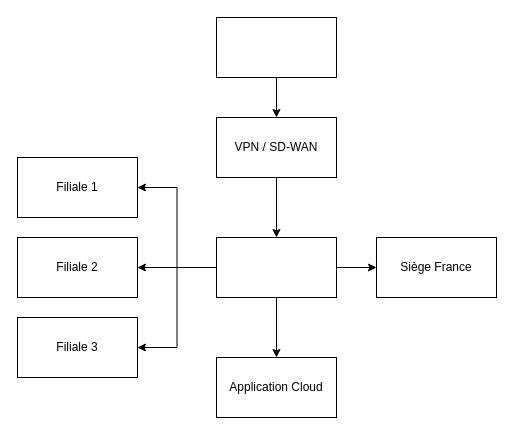
Some shapes in this 514 by 435 pixel diagram are drawn without their labels. The shapes that lost their labels are listed below. From the top down, each one's box as (x1, y1, x2, y2) in pixels, then its label:
(216, 16, 336, 78): Télétravailleurs
(216, 236, 336, 298): SD-WAN centralisé
